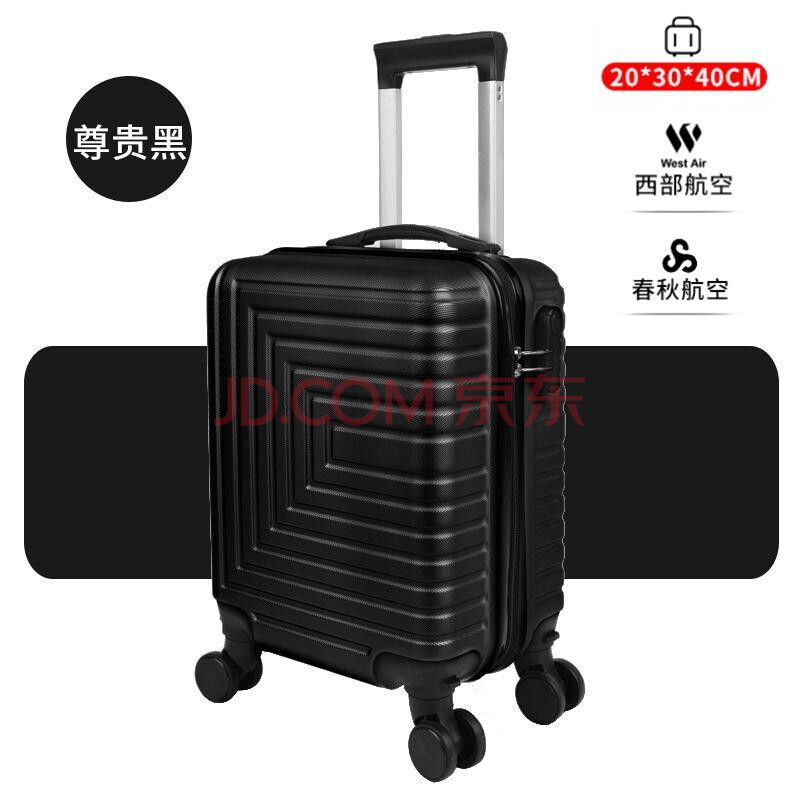box: (207, 246, 566, 690)
handle: (325, 223, 504, 254)
lock: (535, 304, 564, 393)
wheel: (408, 708, 486, 784), (515, 658, 585, 725), (195, 647, 263, 704)
